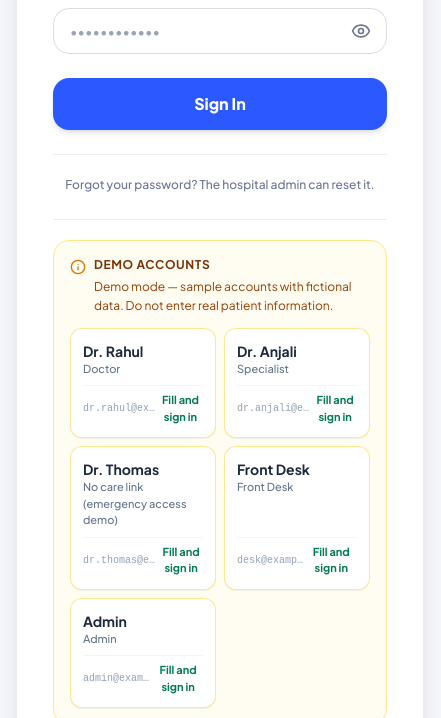
Test: StaffSignIn — demo card integration — demoMode: true › clicking Dr. Rahul fill button updates email and password inputs
The width and height of the screenshot is (441, 718).
(page scrolled)
Check: the text "Dr. Rahul" is shown, box [83,342,143,360]
Click the button "Dr. Rahul Doctor".
click(143, 359)  # box [83,340,203,377]
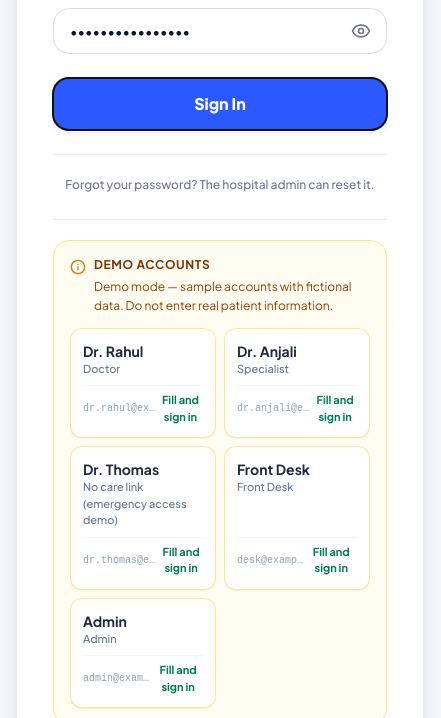
Check: the password field labelled "Password" holds "DemoPassword123!", box [53,8,387,54]
